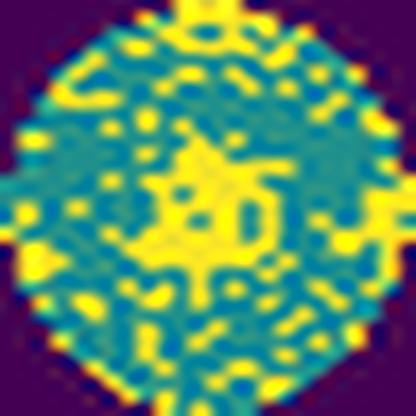Center: (118, 120, 286, 312)
